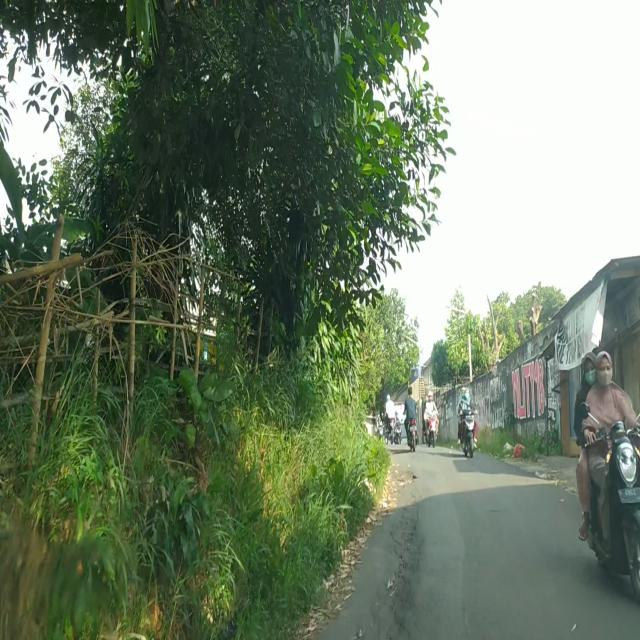Drain Hole: (374, 506, 430, 626)
